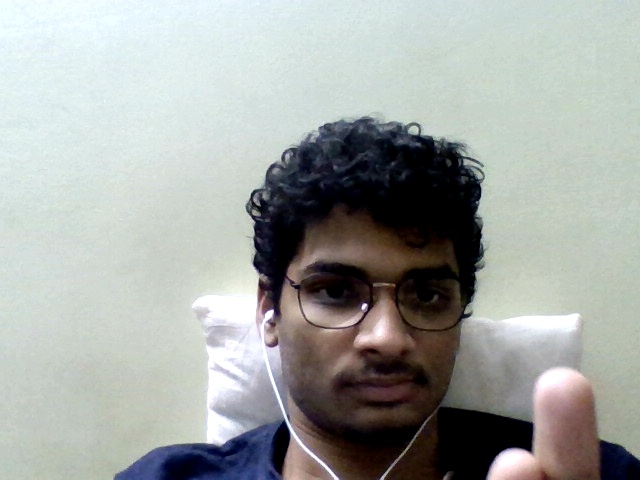LiveLong: (474, 374, 622, 480)
